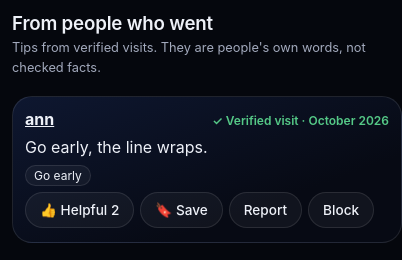
Test: TipsSection › drops a tip from the list when the server says it is no longer public
Step 1. Click the button "👍 Helpful 2" → (80, 210), box [25,192,134,228]
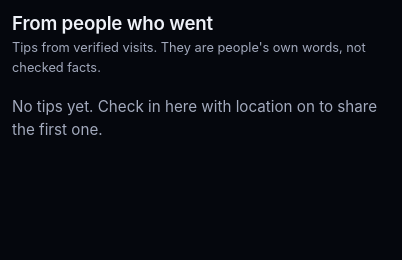
expect the text "Go early" is gone: met
